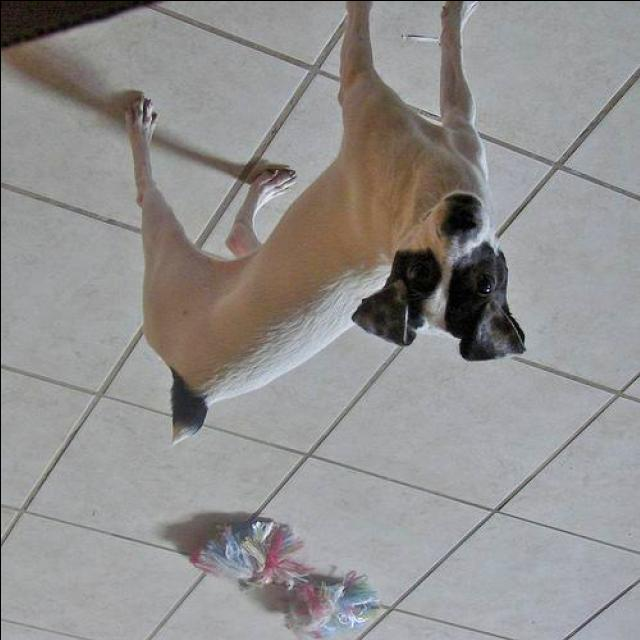toy_terrier: (122, 2, 528, 448)
